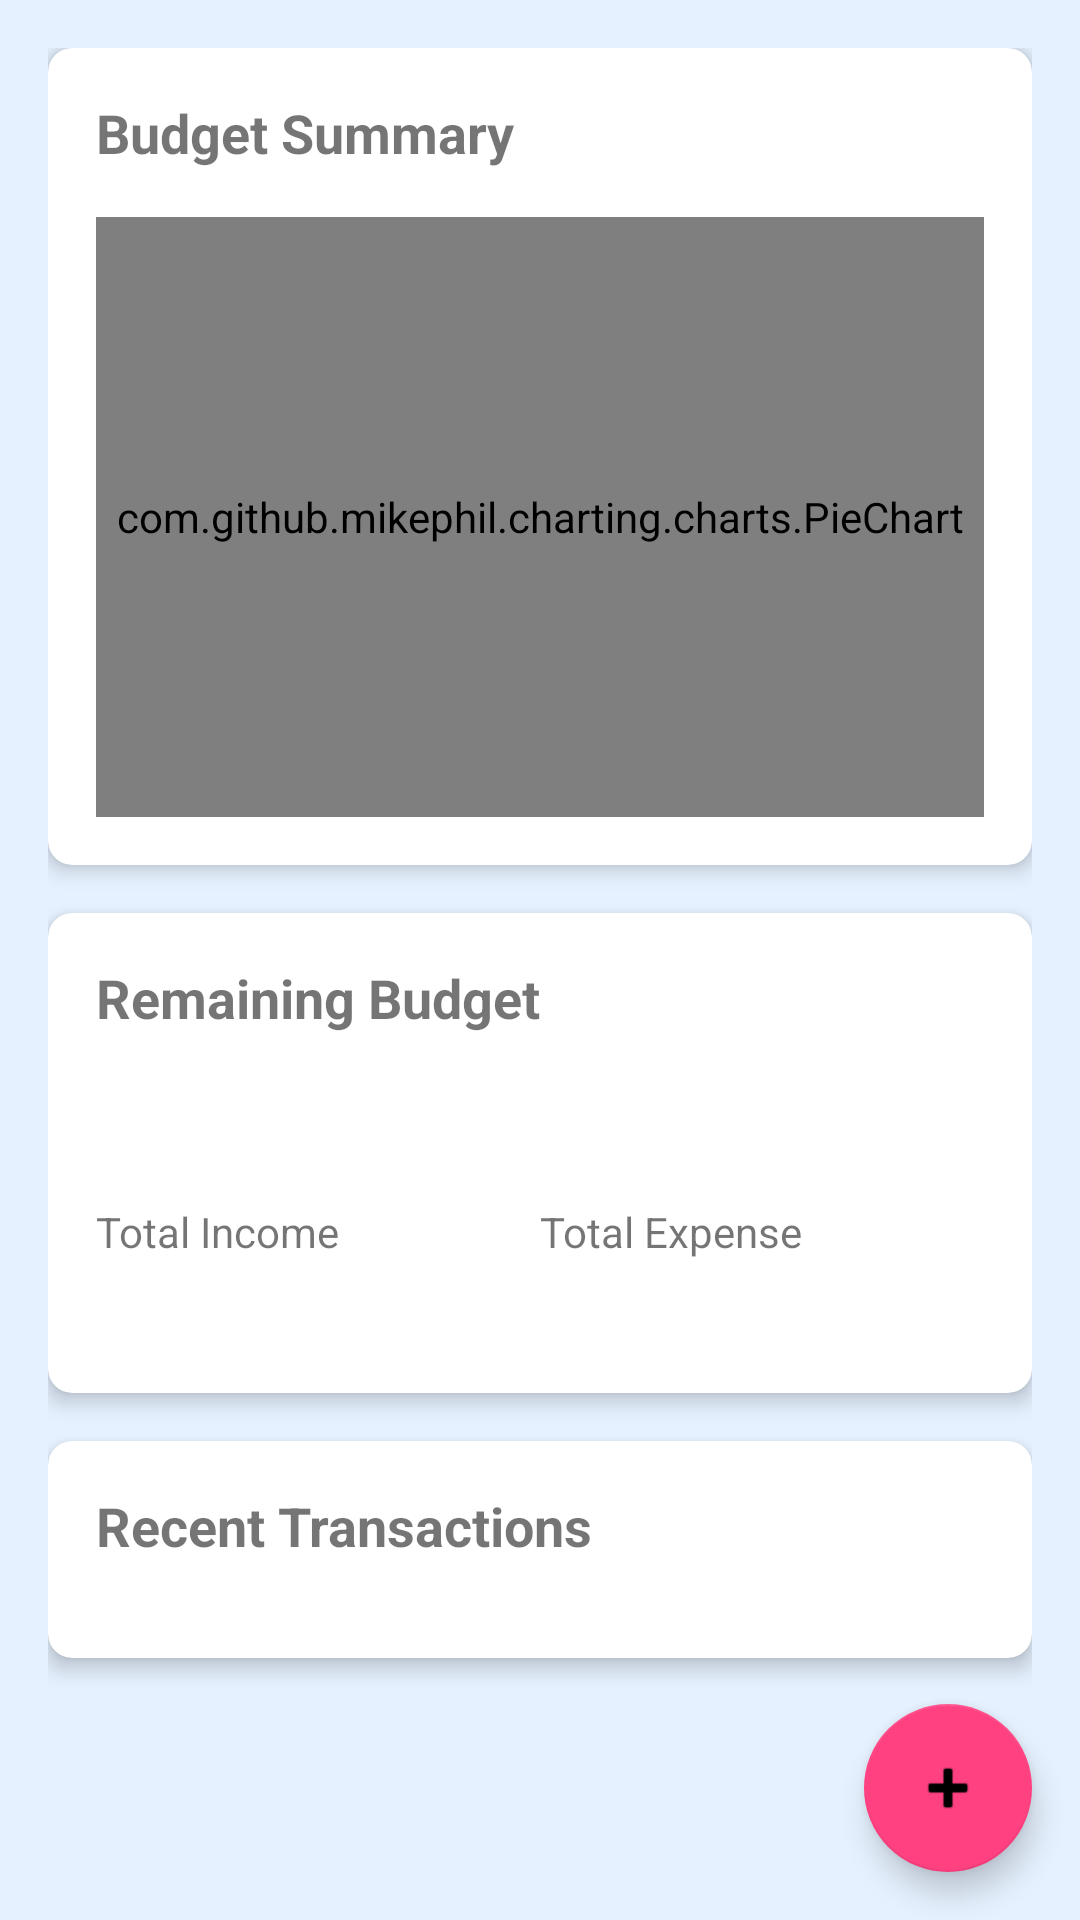

Locate icon controls on the screen. Image size 1080 × 1920, boxes as (x1, y1, x2, y2).
Add transaction: (864, 1704, 1032, 1872)
